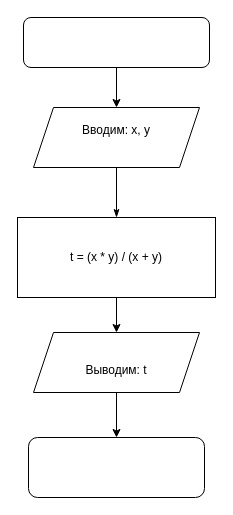
Image size: 233x515. Some labels were removed from this diagram. Each missing label, with the centre of its shape:
Конец: point (116, 467)
Начало: point (116, 42)
